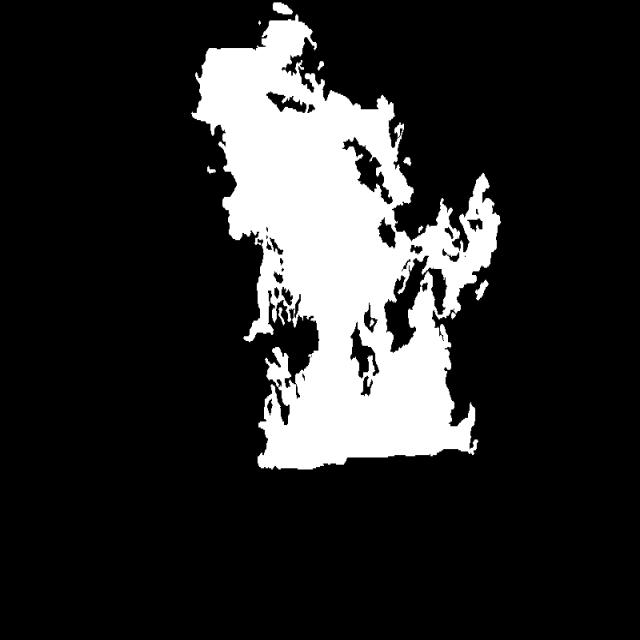fire: (163, 16, 517, 492)
